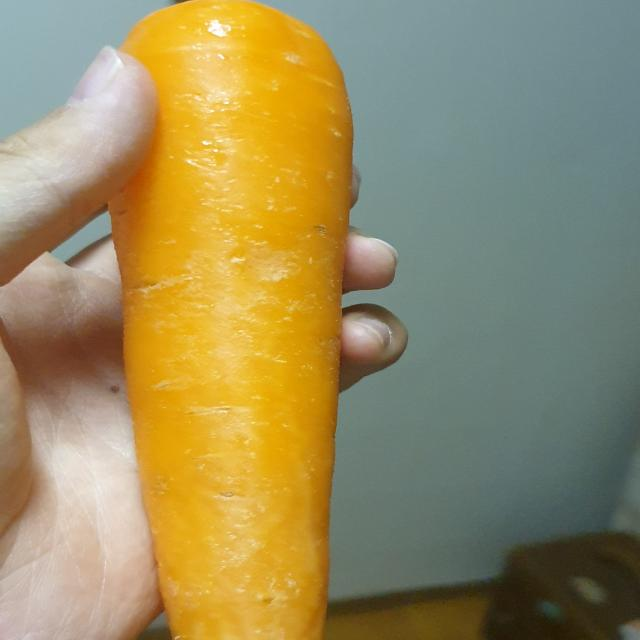carrot: (70, 2, 366, 640)
